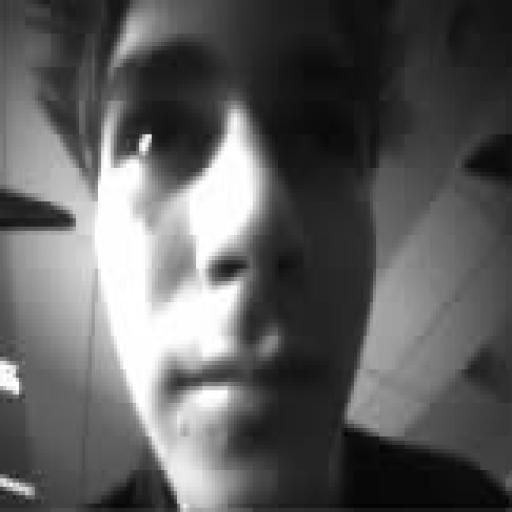human: (35, 0, 508, 511)
